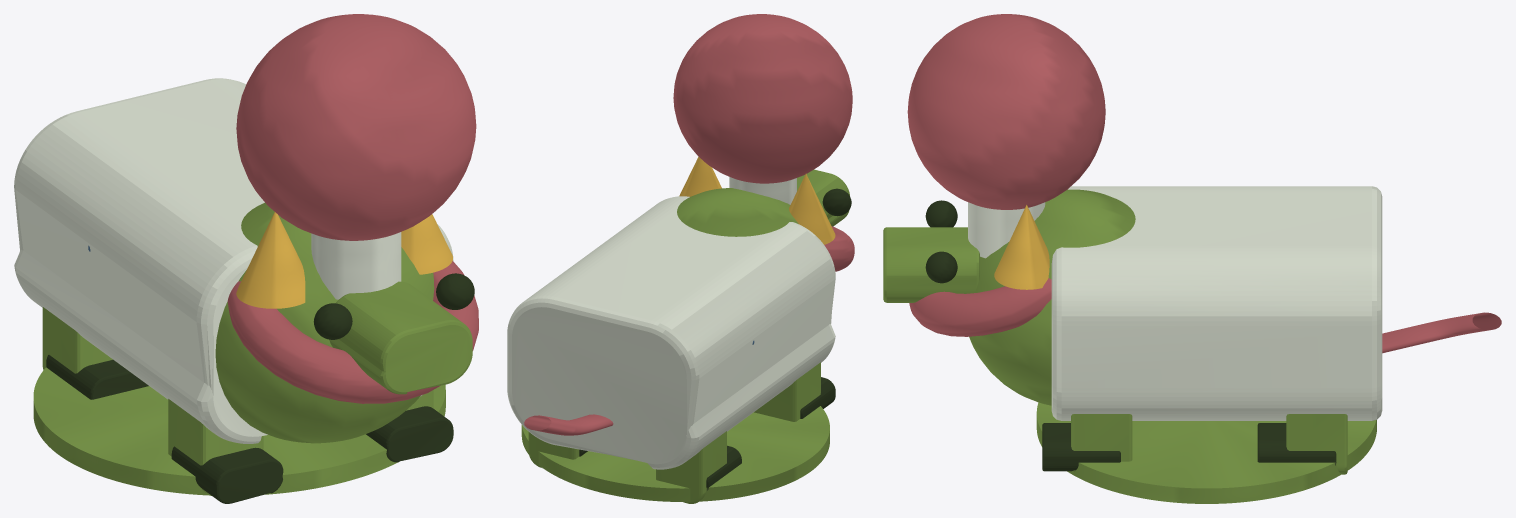
File: 0852_有毒生物图鉴_眼镜王蛇.glb
The picture shows the model from 3 angles, left to right: view 1: azimuth 30°, elevation 25°; view 2: azimuth 150°, elevation 25°; view 3: azimuth 270°, elevation 25°; orthographic projection. The views are drawn at different scales.
Visible parts, largest first — view 1: card_0852; view 2: card_0852; view 3: card_0852.
Boxes of the visible parts, x1,y1,x2,y2 form: card_0852: [14, 14, 478, 503]; card_0852: [507, 14, 854, 503]; card_0852: [883, 14, 1501, 503].
Bounding box in the file's own units: 0.7948 × 1 × 1.37.
